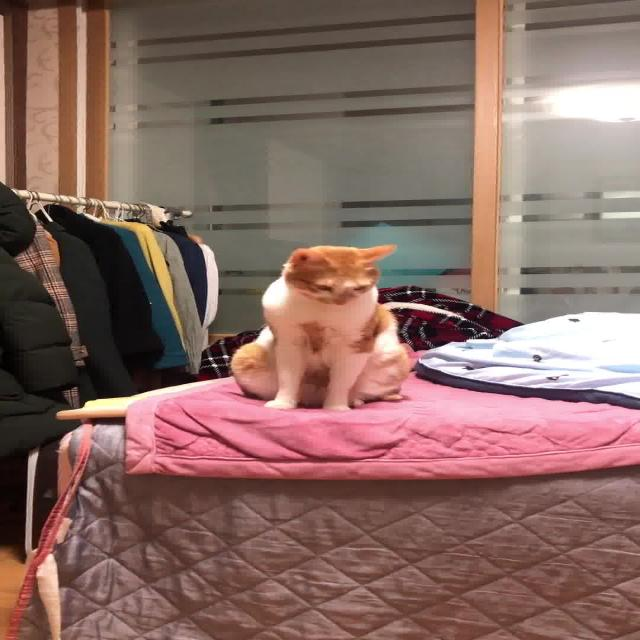cat: (223, 238, 423, 418)
